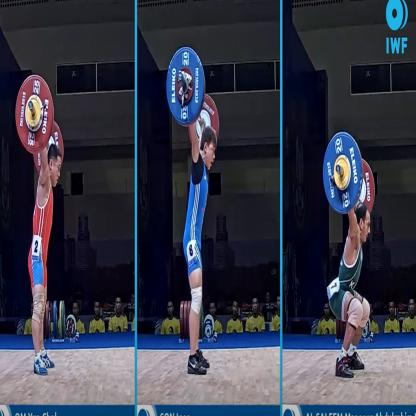Barbell: (164, 41, 209, 132), (321, 129, 365, 214), (14, 70, 56, 159)
